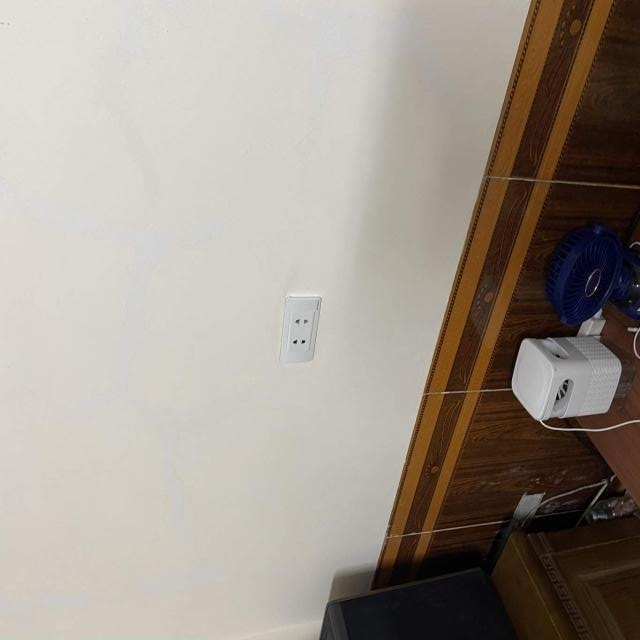outlet: (279, 296, 321, 364)
